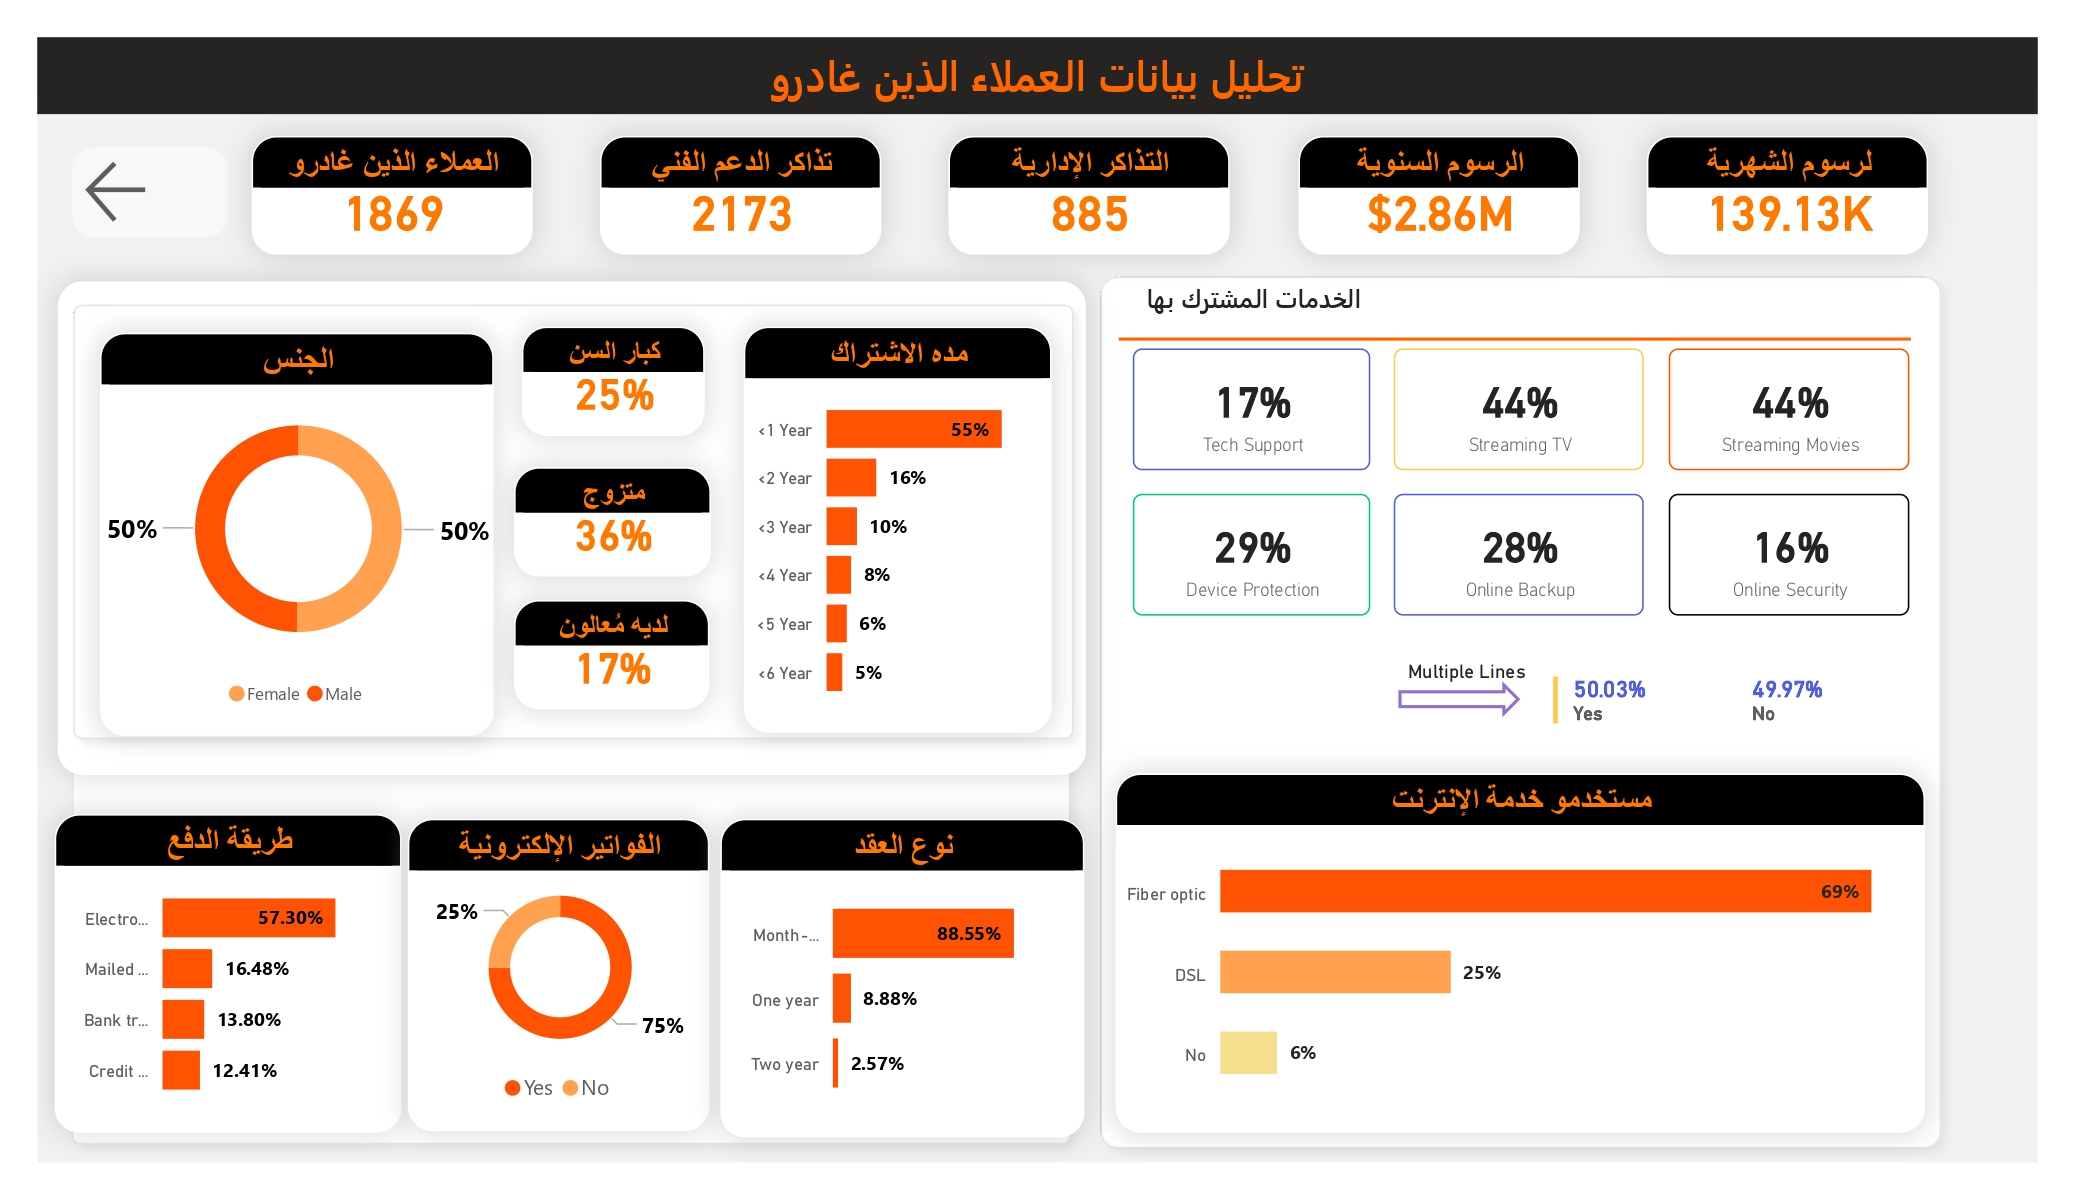

The dashboard page shown, as its layout file describes it:
{"tool":"powerbi","page":{"name":"📉 التسريب","canvas":[1280,720],"ordinal":1},"visuals":[{"type":"shape","box":[0,0,1280,49],"z":0},{"type":"shape","box":[13.3,156,658,316],"z":0,"group":"g1"},{"type":"card","fields":{"Values":["Churn.% Tech Support"]},"box":[701.4,198.6,152.4,78.4],"z":0,"group":"g3"},{"type":"shape","box":[671.4,144.3,555.7,575.7],"z":1000},{"type":"pieChart","title":"الجنس","fields":{"Category":["01 Churn-Dataset.gender"],"Y":["CountNonNull(01 Churn-Dataset.gender)"]},"box":[40.4,188.9,251.4,258.6],"z":1000,"group":"g1"},{"type":"card","fields":{"Values":["Churn.% Streaming TV"]},"box":[868.8,198.6,159.5,78.4],"z":1000,"group":"g3"},{"type":"shape","box":[691.9,123.8,506.9,138.1],"z":1500,"group":"g2"},{"type":"textbox","box":[0,0,1279.8,48.8],"z":2000},{"type":"textbox","box":[689.9,140.7,488.1,45.2],"z":2000,"group":"g2"},{"type":"card","fields":{"Values":["Churn.% Streaming Movies"]},"box":[1044.2,198.6,154.2,78.4],"z":2000,"group":"g3"},{"type":"card","title":"كبار السن","fields":{"Values":["Churn.% of Senior Citizen"]},"box":[309.8,184.8,117.1,70],"z":3000,"group":"g1"},{"type":"card","fields":{"Values":["Churn.% Device Protection"]},"box":[701.4,291.2,152.4,78.4],"z":3000,"group":"g3"},{"type":"shape","box":[13.1,450,657.1,266.7],"z":3000},{"type":"card","title":"العملاء الذين غادرو","fields":{"Values":["Churn_dataset.Total Churn"]},"box":[136.9,62.7,180,76.2],"z":4000},{"type":"card","title":"متزوج","fields":{"Values":["Churn.% of partner"]},"box":[305.5,274.8,125.7,70],"z":4000,"group":"g1"},{"type":"card","fields":{"Values":["Churn.% Online Backup"]},"box":[868.8,291.2,159.5,78.4],"z":4000,"group":"g3"},{"type":"card","title":"تذاكر الدعم الفني","fields":{"Values":["Sum(01 Churn-Dataset.numTechTickets)"]},"box":[360.1,62.8,180,76],"z":5000},{"type":"card","fields":{"Values":["Churn.% Online Sec"]},"box":[1044.2,291.2,154.2,78.4],"z":5000,"group":"g3"},{"type":"card","title":"لديه مُعالون","fields":{"Values":["Churn.% of Dependents"]},"box":[305.5,360.5,124.3,70],"z":6000,"group":"g1"},{"type":"clusteredBarChart","title":"طريقة الدفع","fields":{"Y":["CountNonNull(Churn.PaymentMethod)"],"Category":["Churn.PaymentMethod"]},"box":[11.4,497.1,221.4,204.3],"z":6000},{"type":"card","title":"الرسوم السنوية","fields":{"Values":["Sum(01 Churn-Dataset.TotalCharges)"]},"box":[806.6,62.8,180,76],"z":7000},{"type":"clusteredBarChart","title":"مده الاشتراك","fields":{"Y":["CountNonNull(Churn.Churn)"],"Category":["Churn.Tenure(in years)"]},"box":[451.9,184.6,197.1,260],"z":7000,"group":"g1"},{"type":"card","title":"التذاكر الإدارية","fields":{"Values":["Sum(01 Churn-Dataset.numAdminTickets)"]},"box":[583.4,62.9,180,75.7],"z":8000},{"type":"group","id":"g1","title":"Group 1","box":[13.3,156,658,316],"z":9000},{"type":"card","title":"لرسوم الشهرية","fields":{"Values":["Sum(01 Churn-Dataset.MonthlyCharges)"]},"box":[1029.9,62.8,180,76],"z":10000},{"type":"donutChart","title":"الفواتير الإلكترونية","fields":{"Category":["Churn.PaperlessBilling"],"Y":["CountNonNull(Churn.PaperlessBilling)"]},"box":[237.1,500,192.9,200],"z":11000},{"type":"clusteredBarChart","title":"نوع العقد","fields":{"Category":["Churn.Contract"],"Y":["CountNonNull(Churn.Contract)"]},"box":[437.1,500,232.9,204.3],"z":12000},{"type":"group","id":"g2","title":"Group 2","box":[689.9,123.8,508.9,138.1],"z":13000},{"type":"group","id":"g3","title":"Group 3","box":[701.4,198.6,497.1,171.4],"z":14000},{"type":"shape","box":[871,412,78,23],"z":15000},{"type":"textbox","box":[872,391,300,30],"z":16000},{"type":"multiRowCard","fields":{"Values":["Churn.% Yes-Multiple Lines","Churn.% No-Multiple Lines"]},"box":[965,404,252,53],"z":17000},{"type":"barChart","title":"مستخدمو خدمة الإنترنت","fields":{"Y":["CountNonNull(Churn.InternetService)"],"Category":["Churn.InternetService"]},"box":[690.5,471.4,517.9,229.8],"z":18000},{"type":"actionButton","box":[22.1,70,100,58.3],"z":19000}]}

Visuals, with their boxes on the page's 1280x720 design canvas (x1, y1, x2, y2). These are canvas units, not pixel positions in the 2075x1200 screenshot, which may show the page scaled, cropped or inside an application window:
shape: Rect(0, 0, 1280, 49)
shape: Rect(13, 156, 671, 472)
card - Churn.% Tech Support: Rect(701, 199, 854, 277)
shape: Rect(671, 144, 1227, 720)
"الجنس" pieChart: Rect(40, 189, 292, 448)
card - Churn.% Streaming TV: Rect(869, 199, 1028, 277)
shape: Rect(692, 124, 1199, 262)
textbox: Rect(0, 0, 1280, 49)
textbox: Rect(690, 141, 1178, 186)
card - Churn.% Streaming Movies: Rect(1044, 199, 1198, 277)
"كبار السن" card: Rect(310, 185, 427, 255)
card - Churn.% Device Protection: Rect(701, 291, 854, 370)
shape: Rect(13, 450, 670, 717)
"العملاء الذين غادرو" card: Rect(137, 63, 317, 139)
"متزوج" card: Rect(306, 275, 431, 345)
card - Churn.% Online Backup: Rect(869, 291, 1028, 370)
"تذاكر الدعم الفني" card: Rect(360, 63, 540, 139)
card - Churn.% Online Sec: Rect(1044, 291, 1198, 370)
"لديه مُعالون" card: Rect(306, 360, 430, 430)
"طريقة الدفع" clusteredBarChart: Rect(11, 497, 233, 701)
"الرسوم السنوية" card: Rect(807, 63, 987, 139)
"مده الاشتراك" clusteredBarChart: Rect(452, 185, 649, 445)
"التذاكر الإدارية" card: Rect(583, 63, 763, 139)
"Group 1" group: Rect(13, 156, 671, 472)
"لرسوم الشهرية" card: Rect(1030, 63, 1210, 139)
"الفواتير الإلكترونية" donutChart: Rect(237, 500, 430, 700)
"نوع العقد" clusteredBarChart: Rect(437, 500, 670, 704)
"Group 2" group: Rect(690, 124, 1199, 262)
"Group 3" group: Rect(701, 199, 1198, 370)
shape: Rect(871, 412, 949, 435)
textbox: Rect(872, 391, 1172, 421)
multiRowCard - Churn.% Yes-Multiple Lines x Churn.% No-Multiple Lines: Rect(965, 404, 1217, 457)
"مستخدمو خدمة الإنترنت" barChart: Rect(690, 471, 1208, 701)
actionButton: Rect(22, 70, 122, 128)
